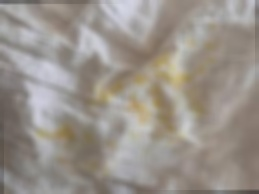mustard: (92, 67, 143, 109), (184, 87, 210, 128), (169, 61, 202, 87), (155, 102, 178, 138), (148, 50, 171, 81), (132, 95, 155, 123), (56, 162, 102, 176), (144, 85, 163, 113), (40, 125, 76, 139), (79, 135, 110, 146), (204, 41, 219, 57), (186, 38, 197, 47), (206, 24, 218, 30)
